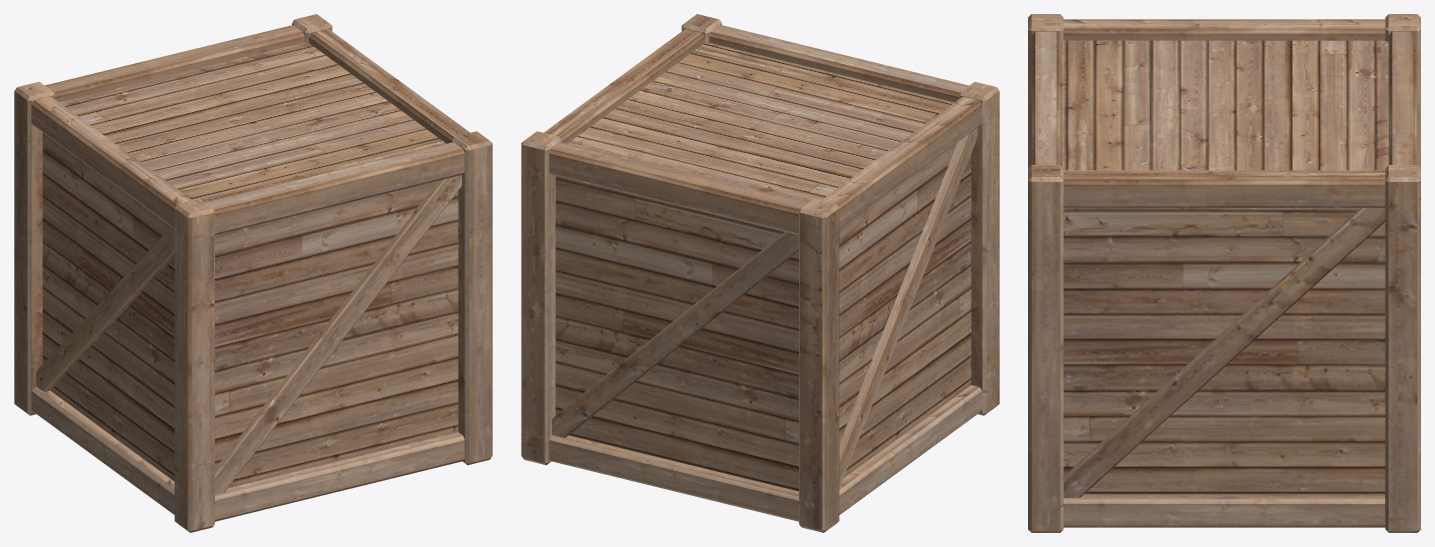
Rendered from WoodenBox.obj.
The picture shows the model from 3 angles, left to right: view 1: azimuth 30°, elevation 25°; view 2: azimuth 150°, elevation 25°; view 3: azimuth 270°, elevation 25°; orthographic projection. The views are drawn at different scales.
Visible parts, largest first — view 1: WoodenBox_Cube; view 2: WoodenBox_Cube; view 3: WoodenBox_Cube.
Boxes of the visible parts, x1=… form: WoodenBox_Cube: x1=14, y1=14, x2=492, y2=532; WoodenBox_Cube: x1=521, y1=14, x2=999, y2=532; WoodenBox_Cube: x1=1028, y1=14, x2=1420, y2=532.
Size of the model in its own units: 1 by 1 by 1.
